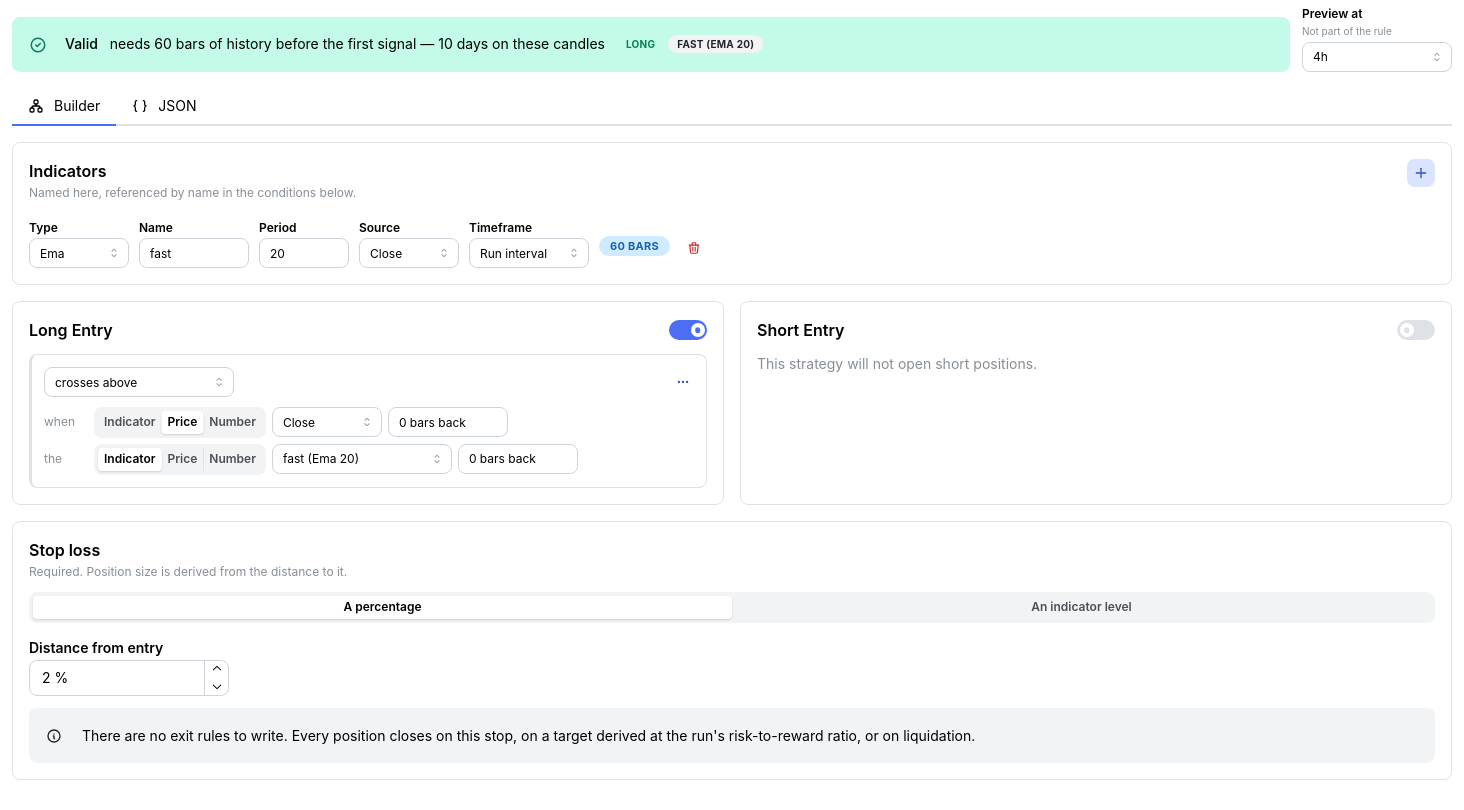
Test: RuleBuilder › toggles the short entry on and off
The image size is (1464, 810).
Check: the text "This strategy will not open short positions." is shown, box left=757, top=355, right=1037, bottom=372
Step 1. Click the switch named "Enable the short entry" → (1416, 330), box left=1397, top=320, right=1435, bottom=340
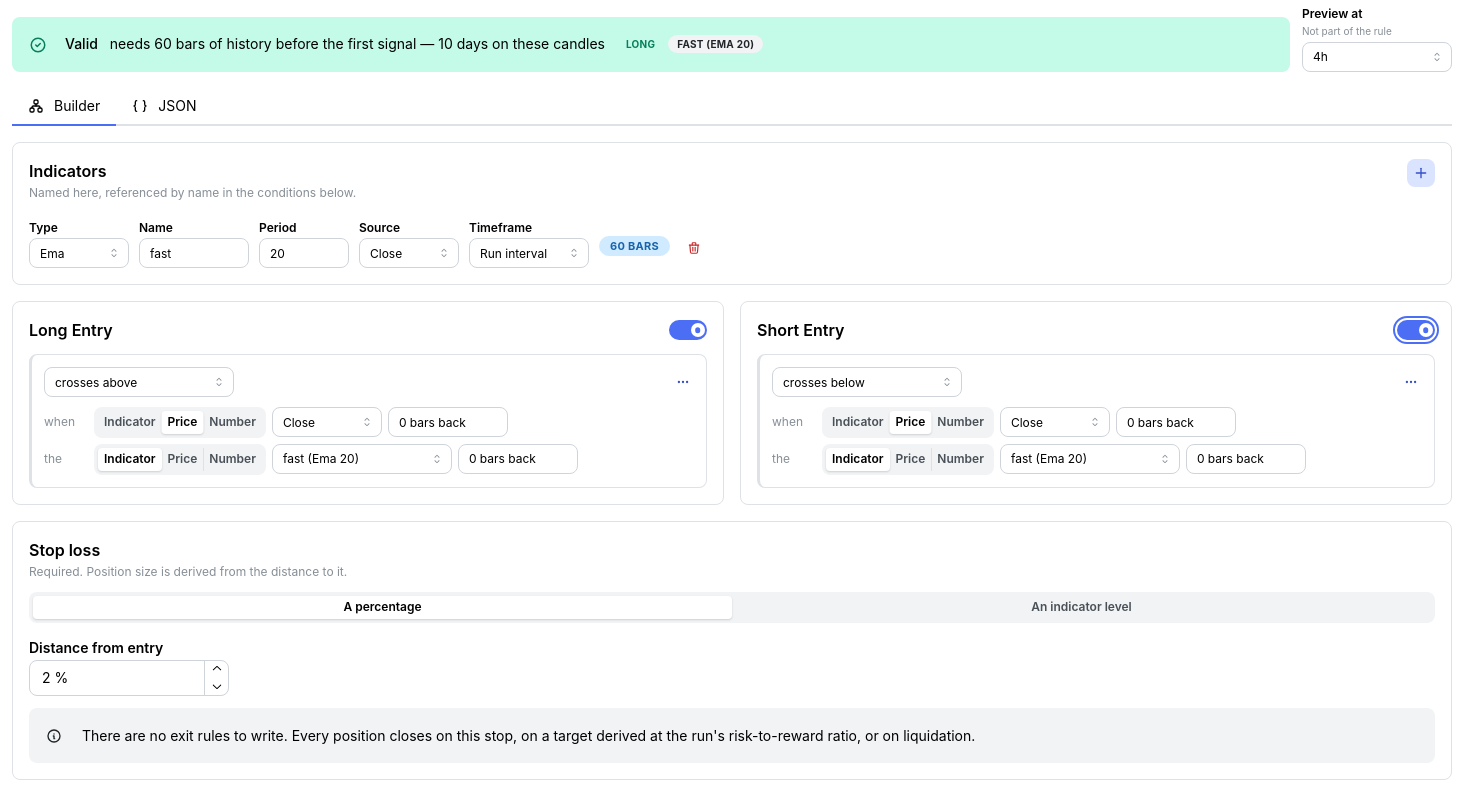
Check: the text "This strategy will not open short positions." is gone
